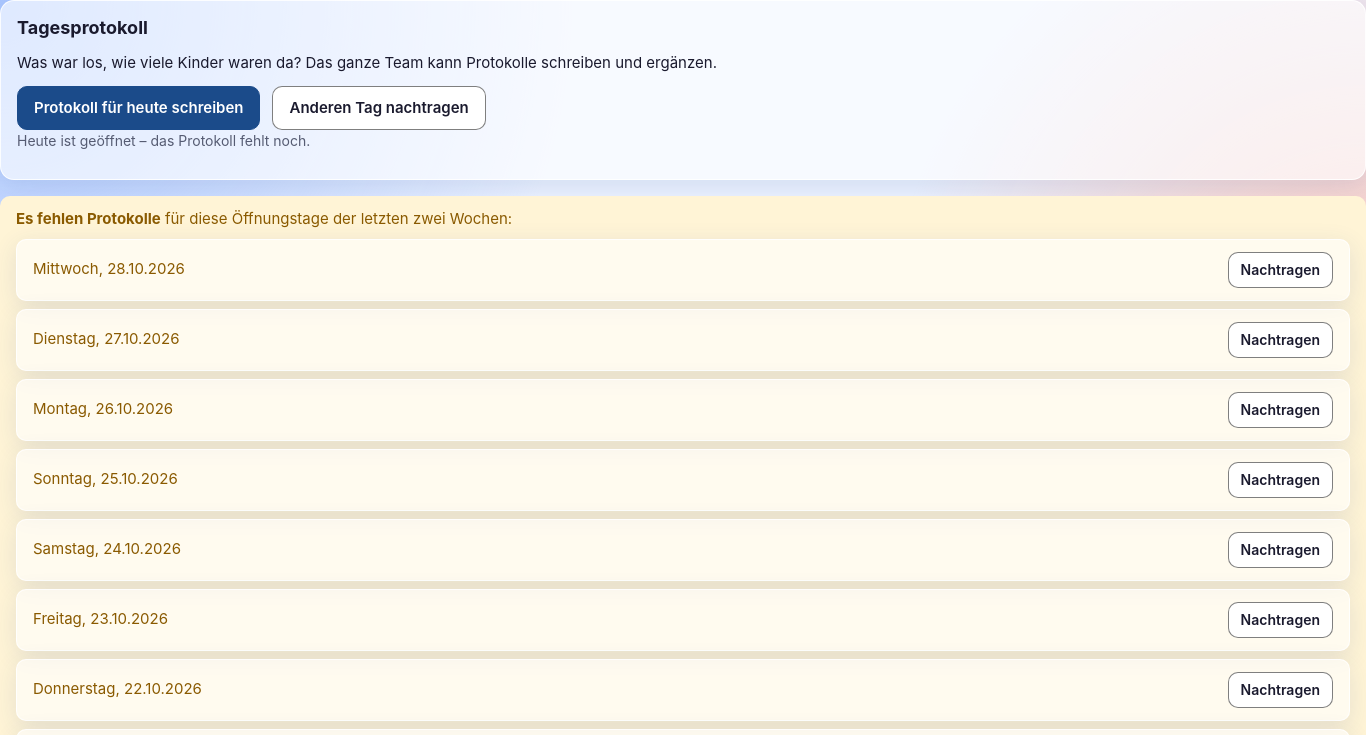
it: Tagesprotokoll: schreiben › Zahl tippen statt klicken; ungültige Zahlen werden nicht übernommen, zu große abgelehnt
Click the button "Protokoll für heute schreiben": (139, 108) [17, 86, 260, 130]
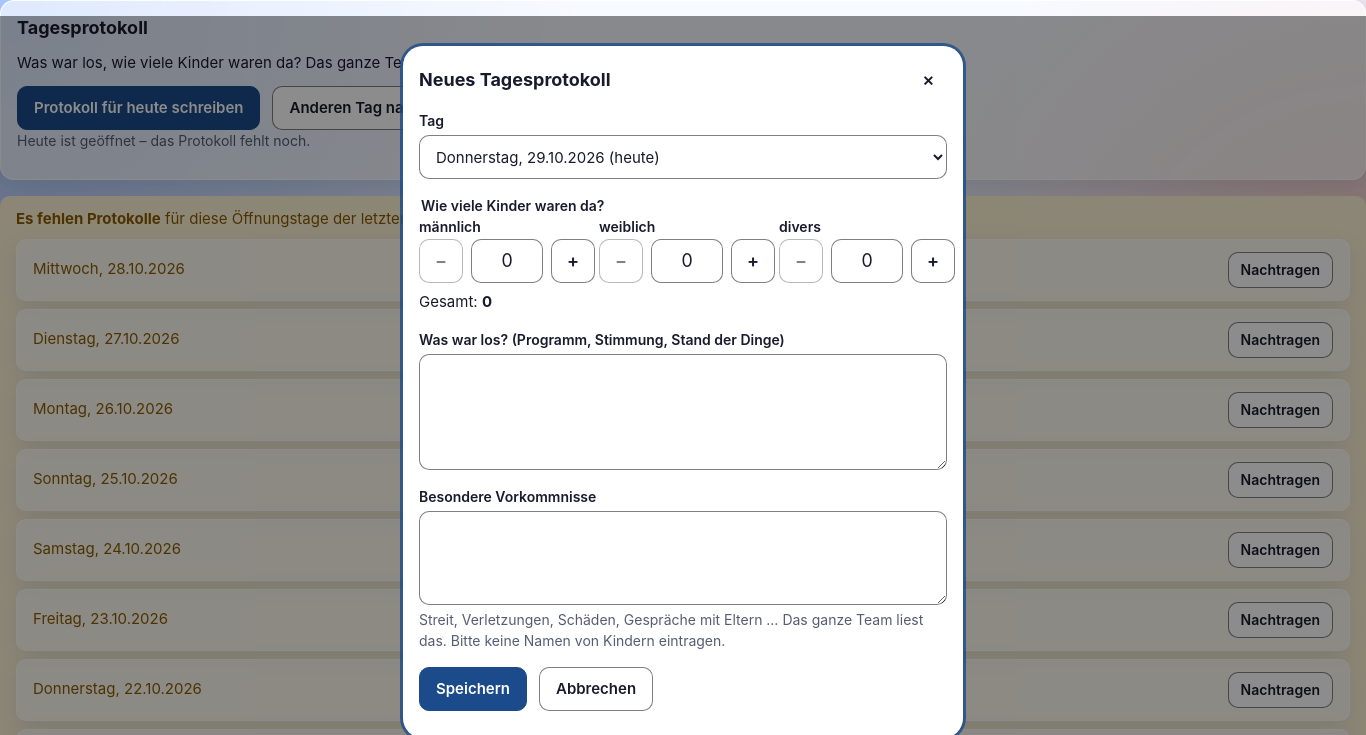
Replace the text in the field named "Anzahl männlich" with "12": (507, 261) [471, 239, 543, 283]
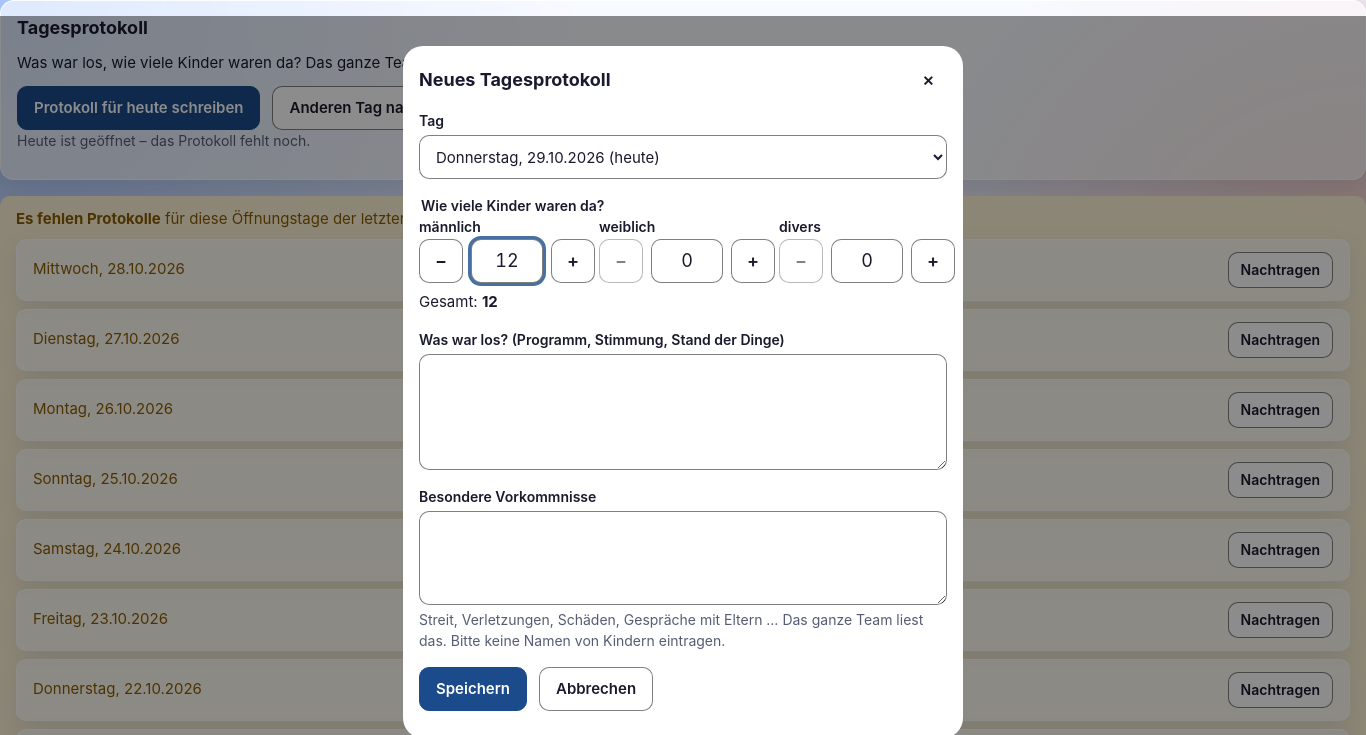
Expected: the element that starts with "Wie viele Kinder waren da?" shows "Gesamt: 12", [419, 195, 947, 313]
Replace the text in the field named "Anzahl männlich" with "501": (507, 261) [471, 239, 543, 283]
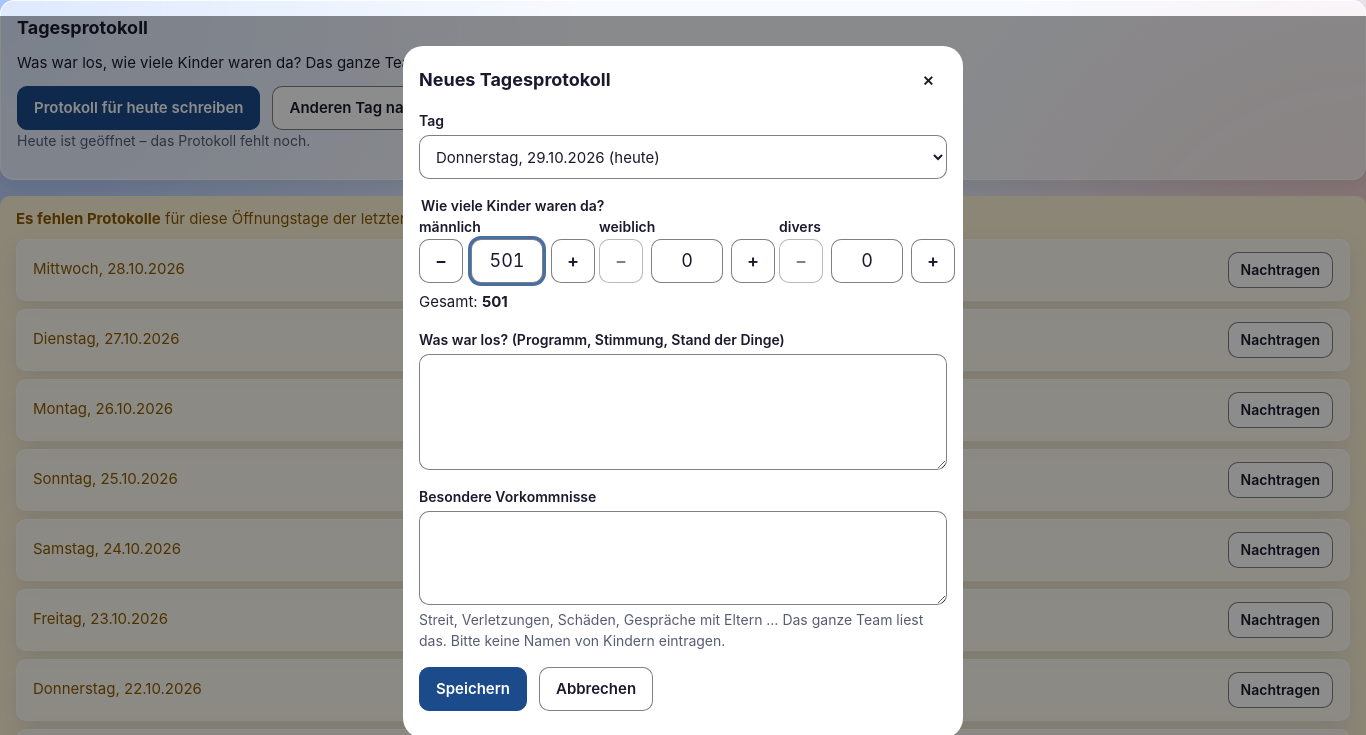
Click the button "Speichern": (473, 689) [419, 667, 527, 711]
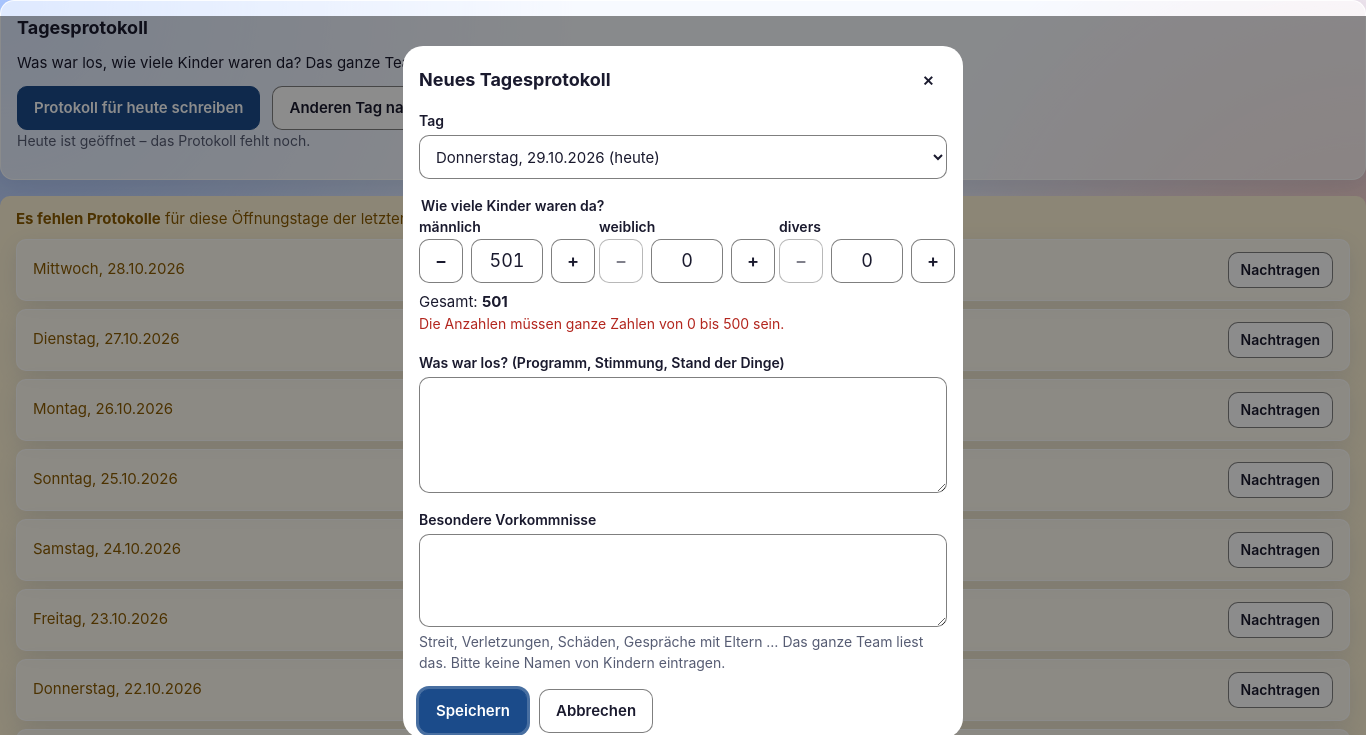
Expected: the text "Die Anzahlen müssen ganze Zahlen von 0 bis 500 sein." is shown, [419, 315, 784, 332]
